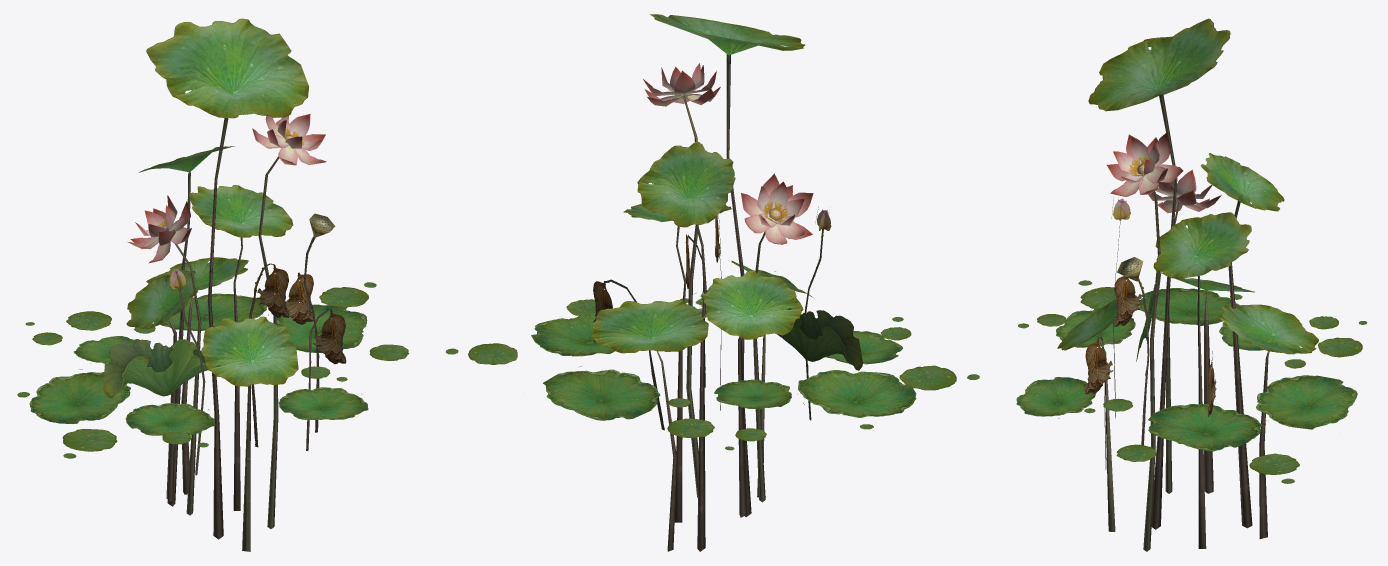
The model's file is TY_hehua_01.FBX.
3 renders of one model, left to right at view 1: azimuth 30°, elevation 25°; view 2: azimuth 150°, elevation 25°; view 3: azimuth 270°, elevation 25°, orthographic. The views are drawn at different scales.
Visible parts, largest first — view 1: TY_hehua_01; view 2: TY_hehua_01; view 3: TY_hehua_01.
Part boxes in pixels (box(x1,y1,x2,y2)): TY_hehua_01: box(17, 18, 408, 551); TY_hehua_01: box(446, 14, 979, 551); TY_hehua_01: box(1016, 18, 1367, 551).
Bounding box in the file's own units: 591 × 668 × 442.
